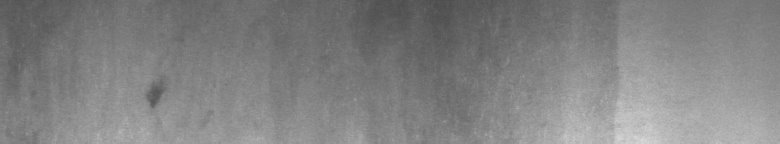fi: (144, 81, 213, 116)
